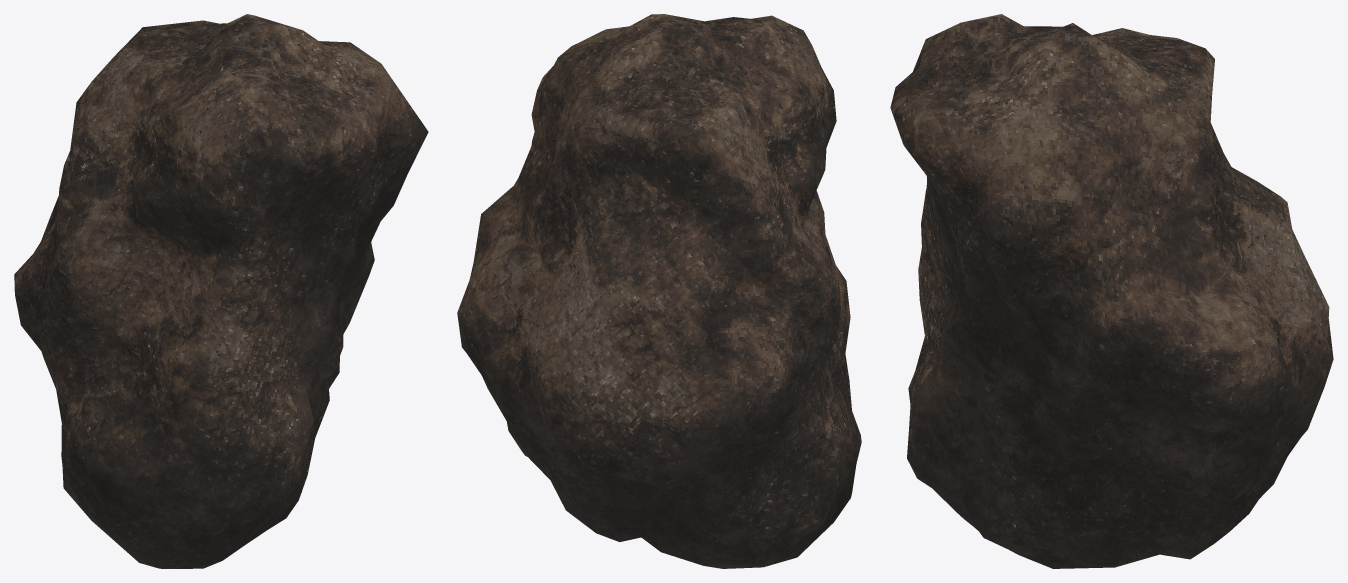
The model's file is SM_RP2_Rock_4m_8.001.glb.
3 views of the same model, side by side, from view 1: azimuth 30°, elevation 25°; view 2: azimuth 150°, elevation 25°; view 3: azimuth 270°, elevation 25° (orthographic). The views are drawn at different scales.
Parts seen in each view (by area): view 1: SM_RP2_Rock_4m_8.001; view 2: SM_RP2_Rock_4m_8.001; view 3: SM_RP2_Rock_4m_8.001.
Part boxes in pixels (bbox=[...]): SM_RP2_Rock_4m_8.001: bbox=[14, 14, 428, 568]; SM_RP2_Rock_4m_8.001: bbox=[457, 14, 861, 568]; SM_RP2_Rock_4m_8.001: bbox=[890, 14, 1333, 568].
Bounding box in the file's own units: 5.1 × 7.4 × 5.3.
1 material, 1 textured.
